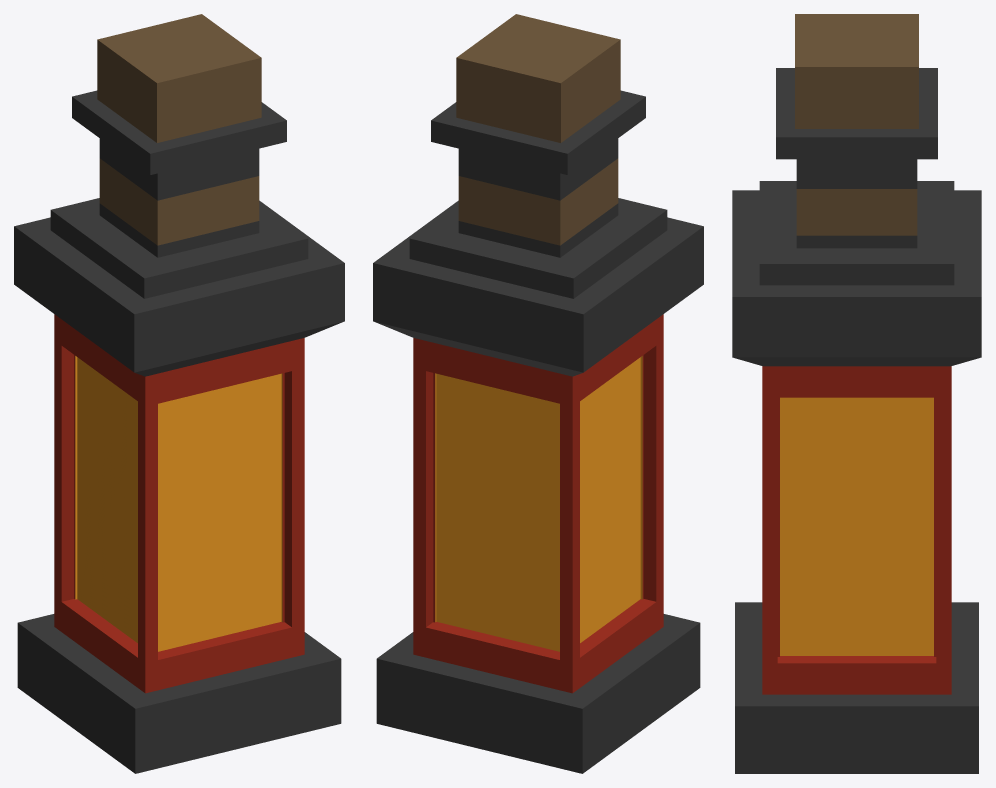
The model's file is Sake_1.fbx.
3 views of the same model, side by side, from view 1: azimuth 30°, elevation 25°; view 2: azimuth 150°, elevation 25°; view 3: azimuth 270°, elevation 25° (orthographic). The views are drawn at different scales.
Visible parts, largest first — view 1: Sake_1; view 2: Sake_1; view 3: Sake_1.
Boxes of the visible parts, <box> form: Sake_1: <box>14,14,344,773</box>; Sake_1: <box>373,14,703,773</box>; Sake_1: <box>732,14,981,773</box>.
Bounding box in the file's own units: 12.3 × 36.72 × 12.19.
